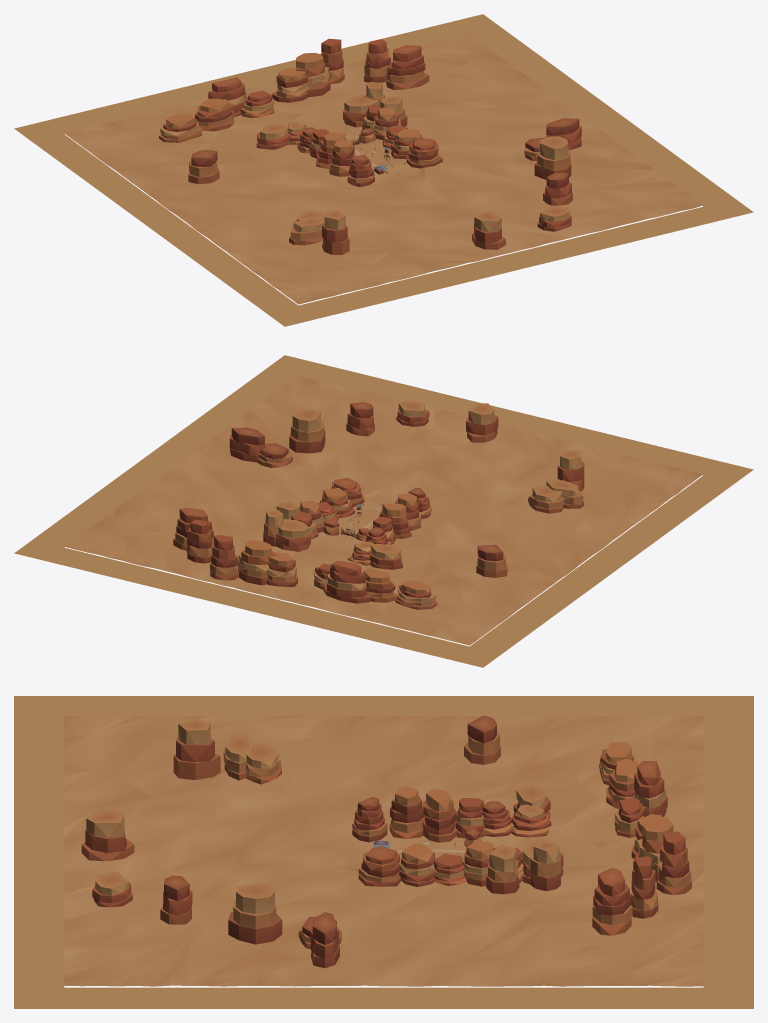
The picture shows the model from 3 angles, top to bottom: view 1: azimuth 30°, elevation 25°; view 2: azimuth 150°, elevation 25°; view 3: azimuth 270°, elevation 25°; orthographic projection. The views are drawn at different scales.
Parts seen in each view (by area): view 1: baked; view 2: baked; view 3: baked.
Part boxes in pixels (x1,y1,x2,y2): baked: (14, 14, 753, 326); baked: (14, 355, 753, 667); baked: (14, 696, 753, 1008).
Size of the model in its own units: 500 by 38.2 by 500.
